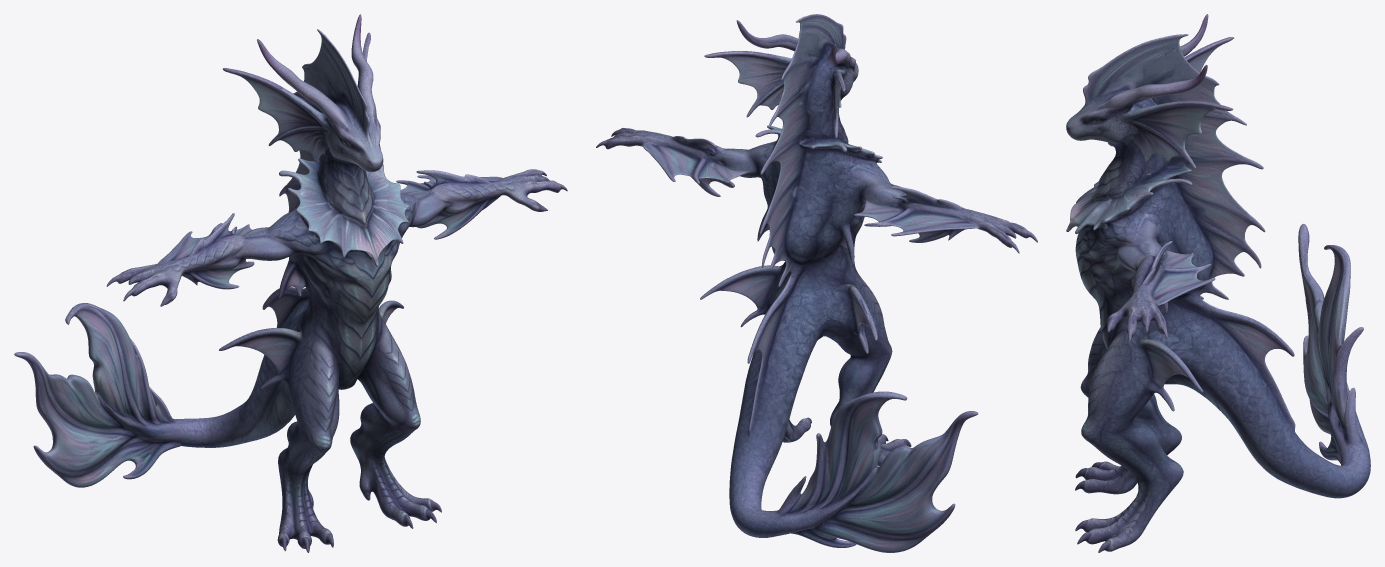
File: cetus-texture.glb
3 renders of one model, left to right at view 1: azimuth 30°, elevation 25°; view 2: azimuth 150°, elevation 25°; view 3: azimuth 270°, elevation 25°, orthographic. The views are drawn at different scales.
Size of the model in its own units: 1.9 by 1.83 by 1.05.
Materials: 1 (1 with a texture image).
